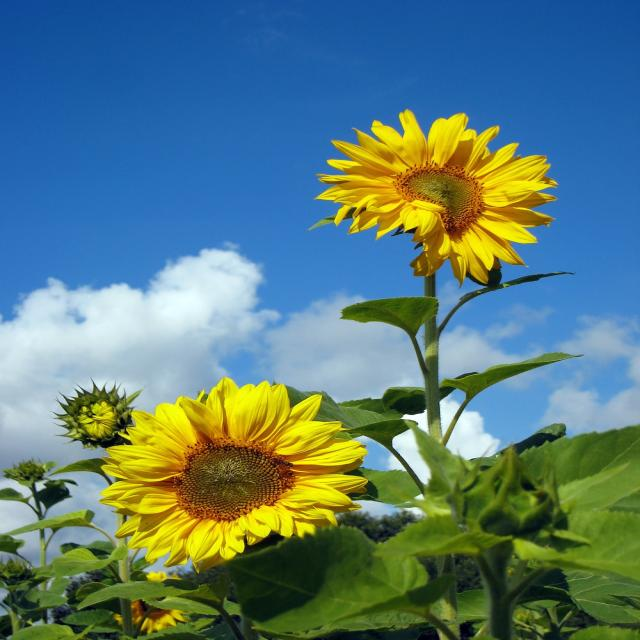sunflower: (96, 371, 385, 574), (304, 104, 578, 294), (46, 374, 151, 448), (101, 568, 216, 635)
